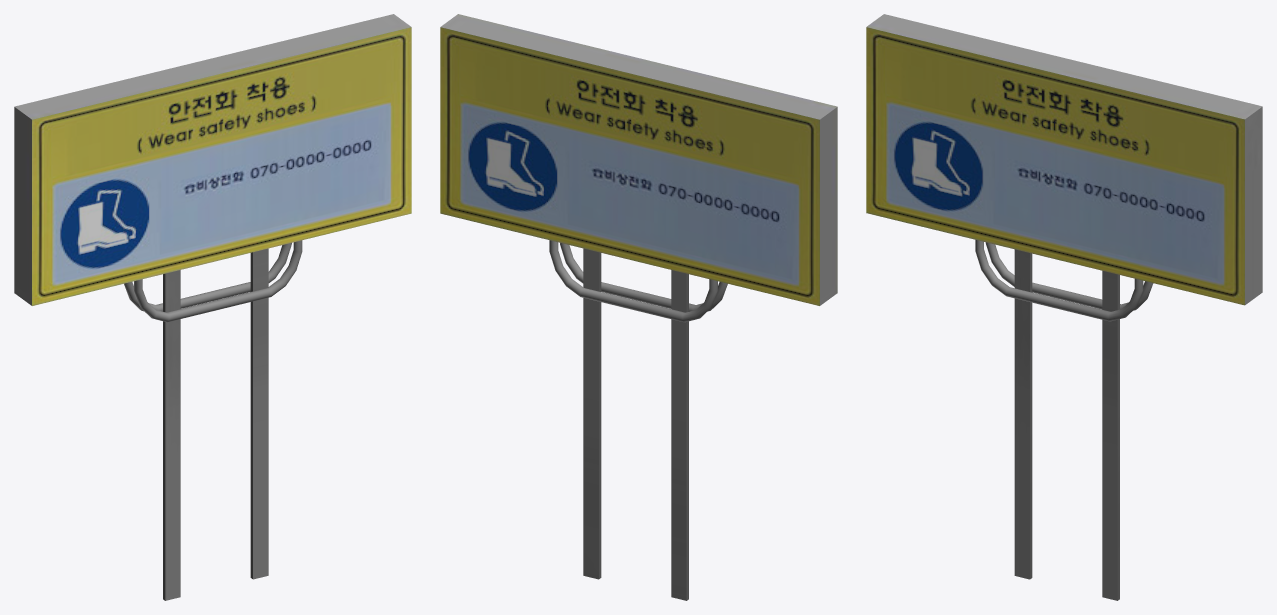
Rendered from cautionShoes.gltf.
The picture shows the model from 3 angles, left to right: view 1: azimuth 30°, elevation 25°; view 2: azimuth 150°, elevation 25°; view 3: azimuth 330°, elevation 25°; orthographic projection.
Parts seen in each view (by area): view 1: shoes; view 2: shoes; view 3: shoes.
Part boxes in pixels (bbox=[...]): shoes: bbox=[14, 14, 411, 600]; shoes: bbox=[440, 14, 837, 600]; shoes: bbox=[866, 14, 1262, 600].
Size of the model in its own units: 21.53 by 28.25 by 1.76.
Materials: 1 (1 with a texture image).
